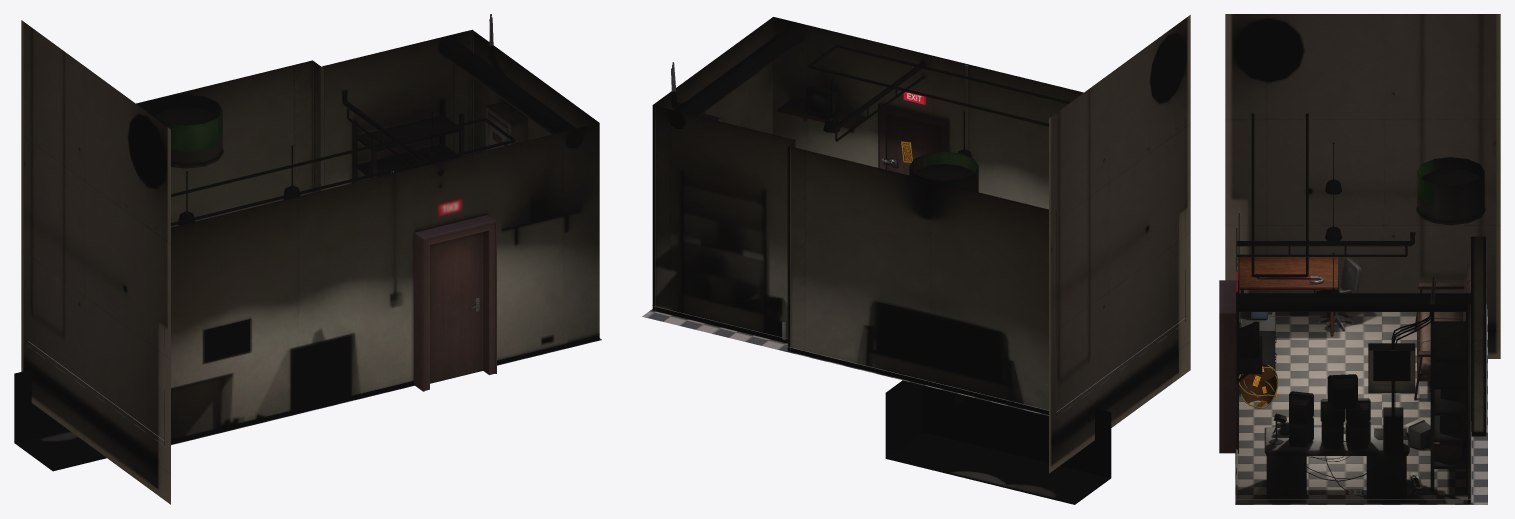
File: room.glb
The picture shows the model from 3 angles, left to right: view 1: azimuth 30°, elevation 25°; view 2: azimuth 150°, elevation 25°; view 3: azimuth 270°, elevation 25°; orthographic projection. The views are drawn at different scales.
Visible parts, largest first — view 1: wall exterior, door, pipe, vent, shelf, electric; view 2: wall exterior, pipe, door, vent, tv11, small shelf; view 3: wall exterior, pipe, table1, shelf, vent, door, table2, electric, sofa, wires, pot5, tv1 (+13 smaller).
Boxes of the visible parts, left/top/right/bottom form: wall exterior: left=14, top=20, right=601, bottom=504; door: left=414, top=214, right=496, bottom=391; pipe: left=125, top=36, right=583, bottom=229; vent: left=149, top=94, right=223, bottom=168; shelf: left=352, top=99, right=464, bottom=183; electric: left=485, top=102, right=527, bottom=150; wall exterior: left=642, top=15, right=1190, bottom=504; pipe: left=667, top=23, right=1177, bottom=150; door: left=878, top=103, right=949, bottom=175; vent: left=909, top=151, right=978, bottom=192; tv11: left=805, top=86, right=839, bottom=118; small shelf: left=777, top=99, right=865, bottom=132; wall exterior: left=1225, top=14, right=1500, bottom=504; pipe: left=1236, top=113, right=1470, bottom=312; table1: left=1264, top=427, right=1409, bottom=499; shelf: left=1430, top=312, right=1467, bottom=490; vent: left=1416, top=157, right=1485, bottom=225; door: left=1219, top=280, right=1238, bottom=453; table2: left=1237, top=257, right=1337, bottom=336; electric: left=1368, top=343, right=1415, bottom=393; sofa: left=1414, top=262, right=1470, bottom=400; wires: left=1298, top=275, right=1436, bottom=496; pot5: left=1239, top=364, right=1277, bottom=409; tv1: left=1327, top=374, right=1357, bottom=409.
Bounding box in the file's own units: 6.87 × 5.91 × 3.98.
Materials: 45 (43 with a texture image).
